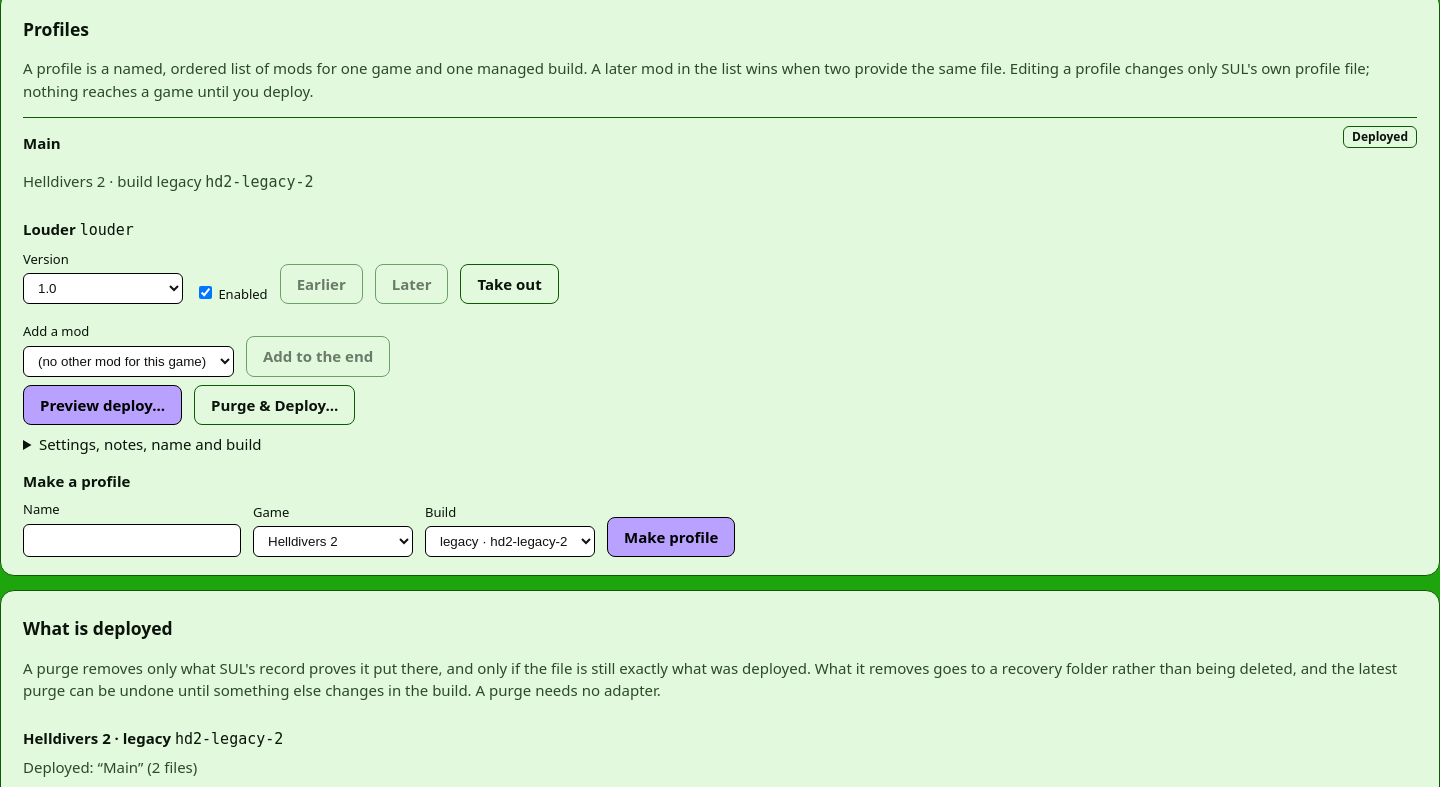
Test case: deploy, purge and undo ask before they change anything › Purge & Deploy where something is left says the deploy was not attempted
Later steps or results of the test are not shown.
(page scrolled)
Click the button "Purge & Deploy…" at (275, 405), box [194,385,355,425]
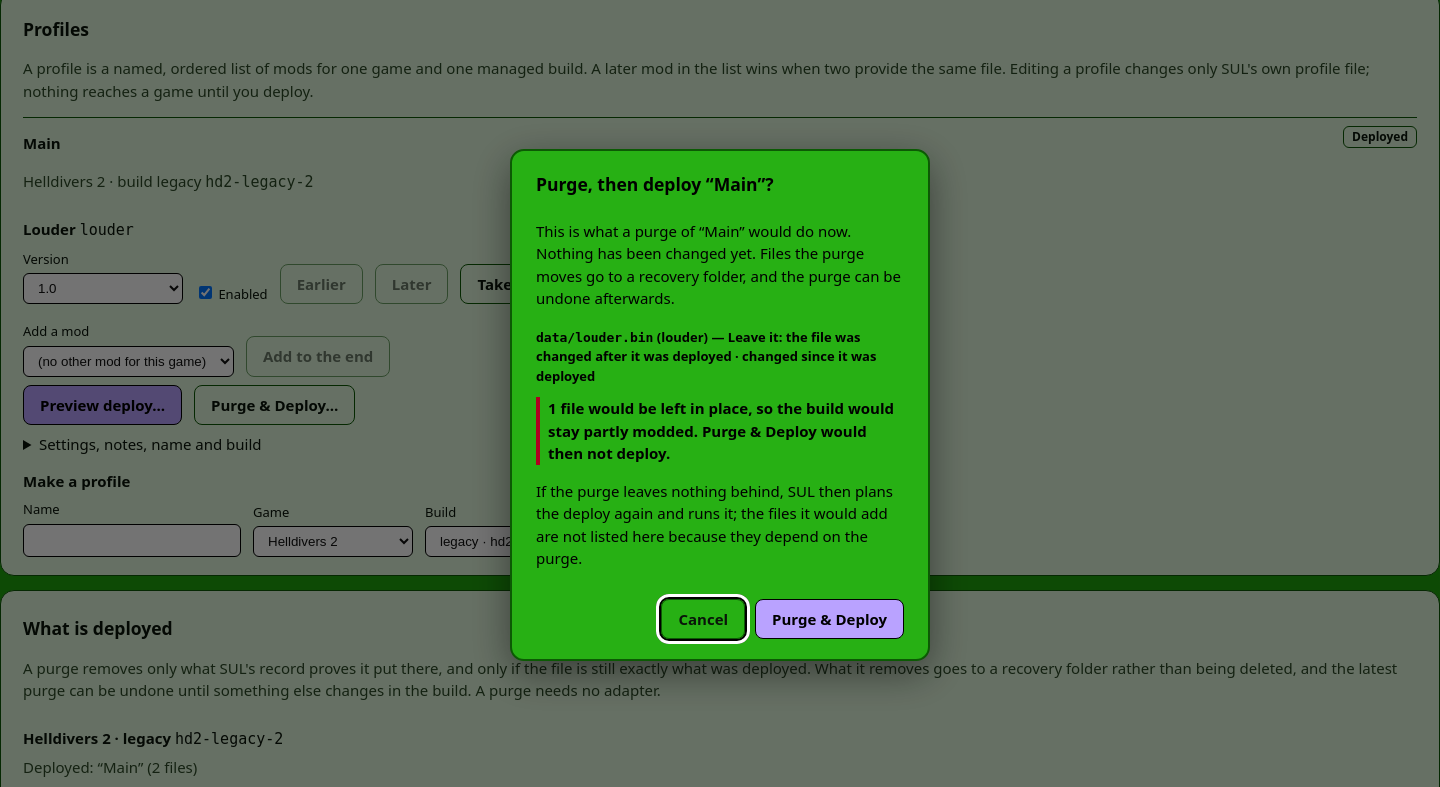
Expected: the dialog shows "Purge & Deploy would then not deploy", [548,421,867,463]
